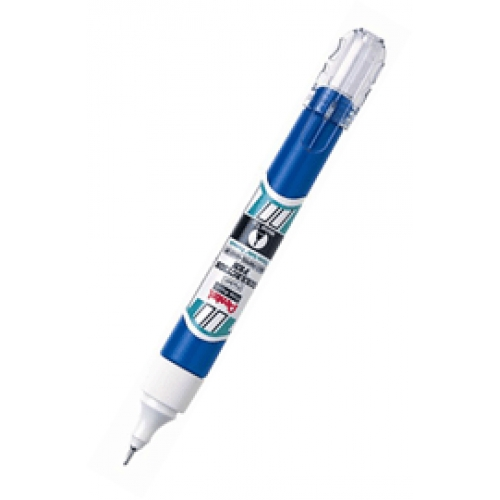Correction_fluid: (116, 23, 394, 471)
